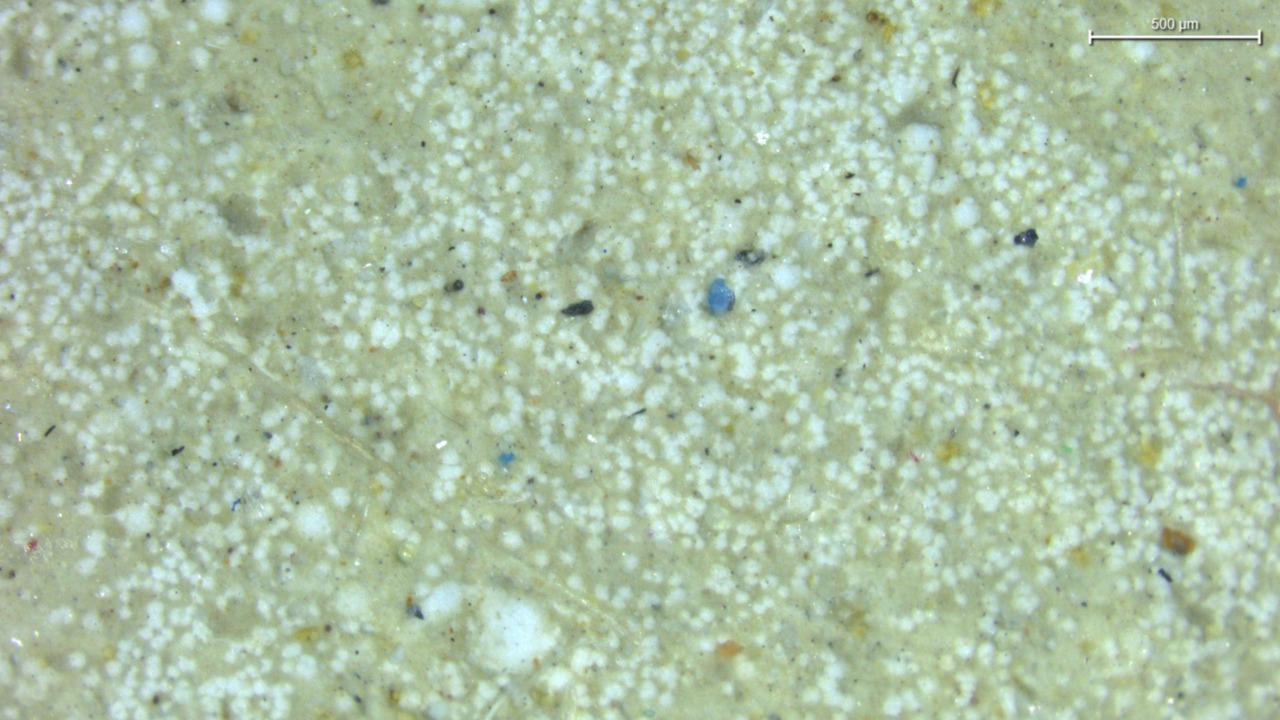microplastic_fragment: (708, 278, 735, 315)
